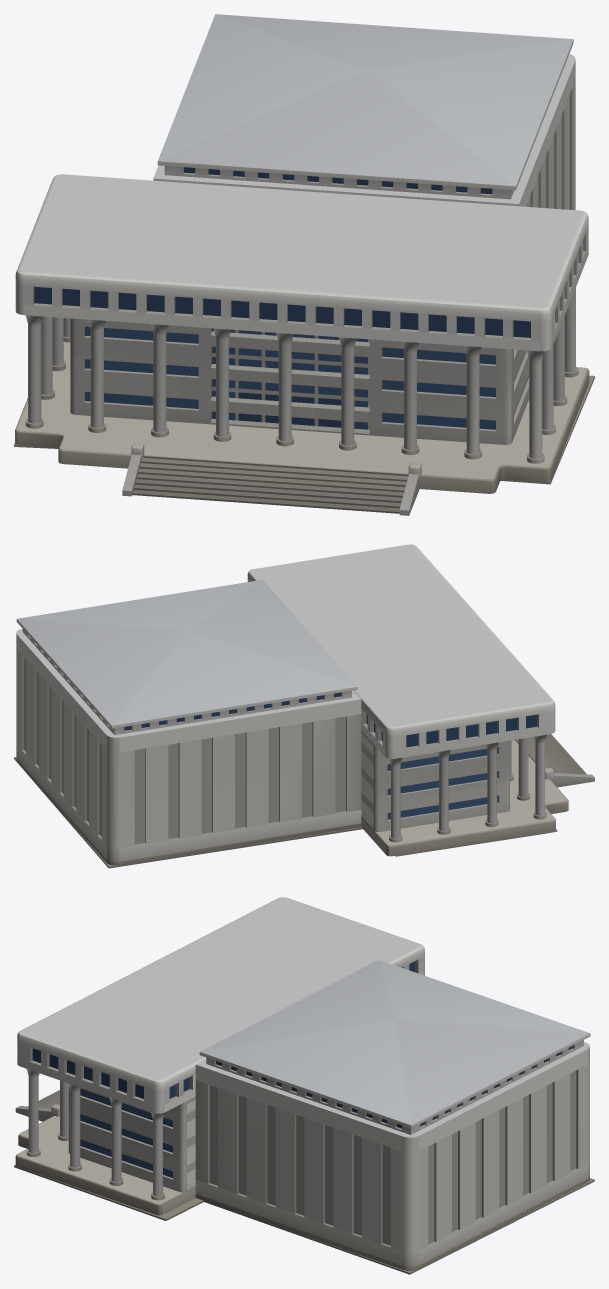
Rendered from minjumaru.glb.
The picture shows the model from 3 angles, top to bottom: view 1: azimuth 30°, elevation 25°; view 2: azimuth 150°, elevation 25°; view 3: azimuth 270°, elevation 25°; orthographic projection. The views are drawn at different scales.
Visible parts, largest first — view 1: LM_minjumaru; view 2: LM_minjumaru; view 3: LM_minjumaru.
Boxes of the visible parts, bbox=[...] form: LM_minjumaru: bbox=[14, 14, 594, 515]; LM_minjumaru: bbox=[14, 544, 594, 868]; LM_minjumaru: bbox=[14, 897, 594, 1274].
Bounding box in the file's own units: 68.57 × 22.22 × 68.59.
